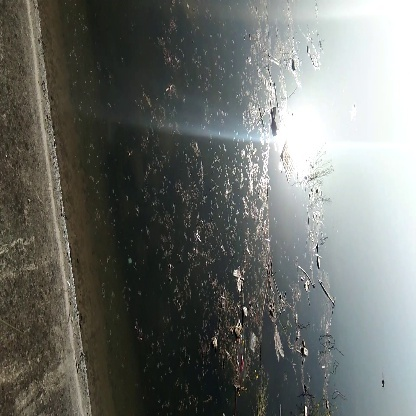branch: (316, 272, 342, 308)
